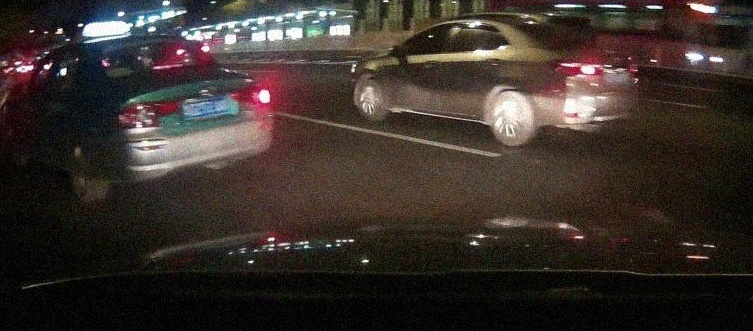L_light: (116, 99, 179, 129), (546, 58, 605, 76)
R_light: (229, 85, 272, 109), (623, 55, 637, 73)
T_light: (152, 63, 183, 70), (569, 18, 589, 24)
night-no: (506, 13, 640, 147)
night-right: (89, 35, 274, 203)
